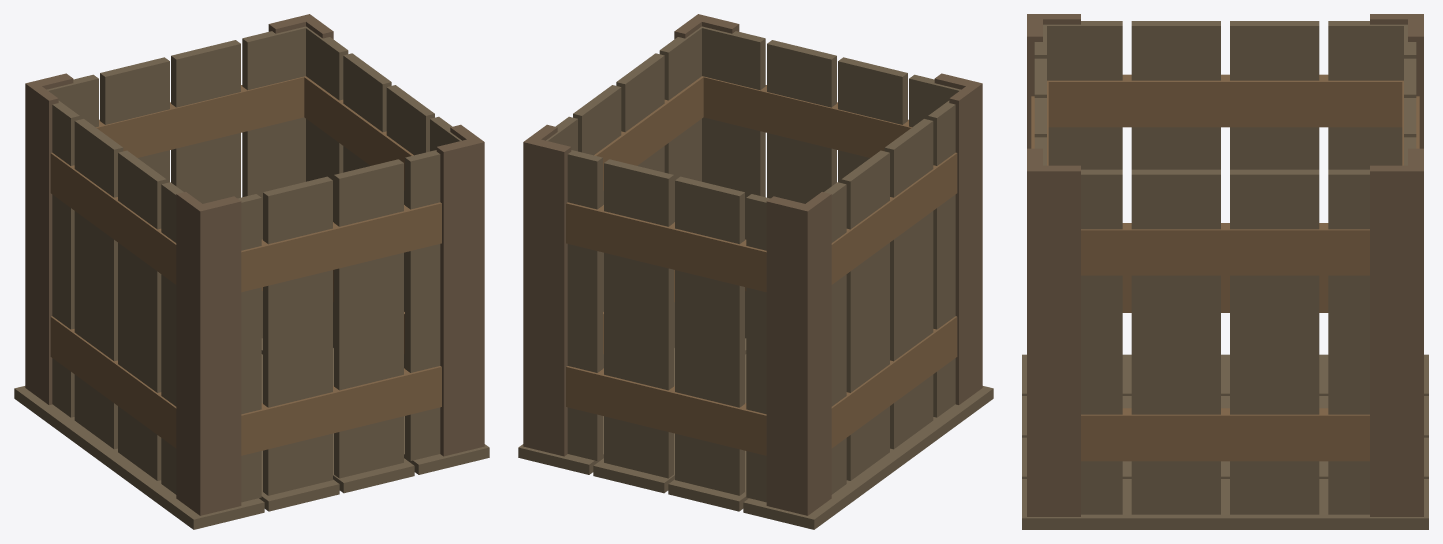
3 views of the same model, side by side, from view 1: azimuth 30°, elevation 25°; view 2: azimuth 150°, elevation 25°; view 3: azimuth 270°, elevation 25° (orthographic). The views are drawn at different scales.
Parts seen in each view (by area): view 1: Box_2; view 2: Box_2; view 3: Box_2.
Boxes of the visible parts, x1=… form: Box_2: x1=14, y1=14, x2=489, y2=529; Box_2: x1=518, y1=14, x2=993, y2=529; Box_2: x1=1022, y1=14, x2=1428, y2=529.
Bounding box in the file's own units: 75.72 × 76.99 × 79.52.
1 material, 1 textured.
